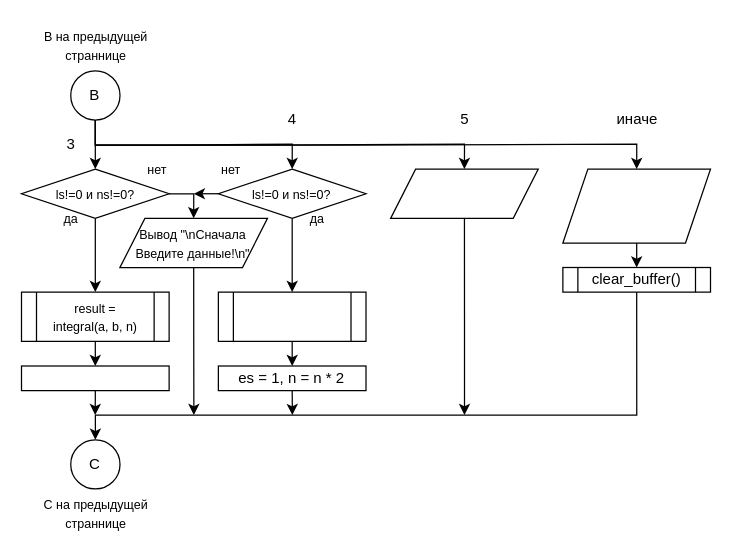
Image size: 734x560. Some labels were removed from this diagram. Here are the shapes that lost their labels. From the top down, the box of each, then its label:
(389, 168, 538, 218): Вывод "\nВыход...\n"
(562, 168, 710, 243): Вывод "\nНеверный ввод! Выберите пункт от 1 до 5\n"
(217, 291, 366, 341): estimate_error(a, b, n, error)
(20, 365, 169, 391): is = 1
